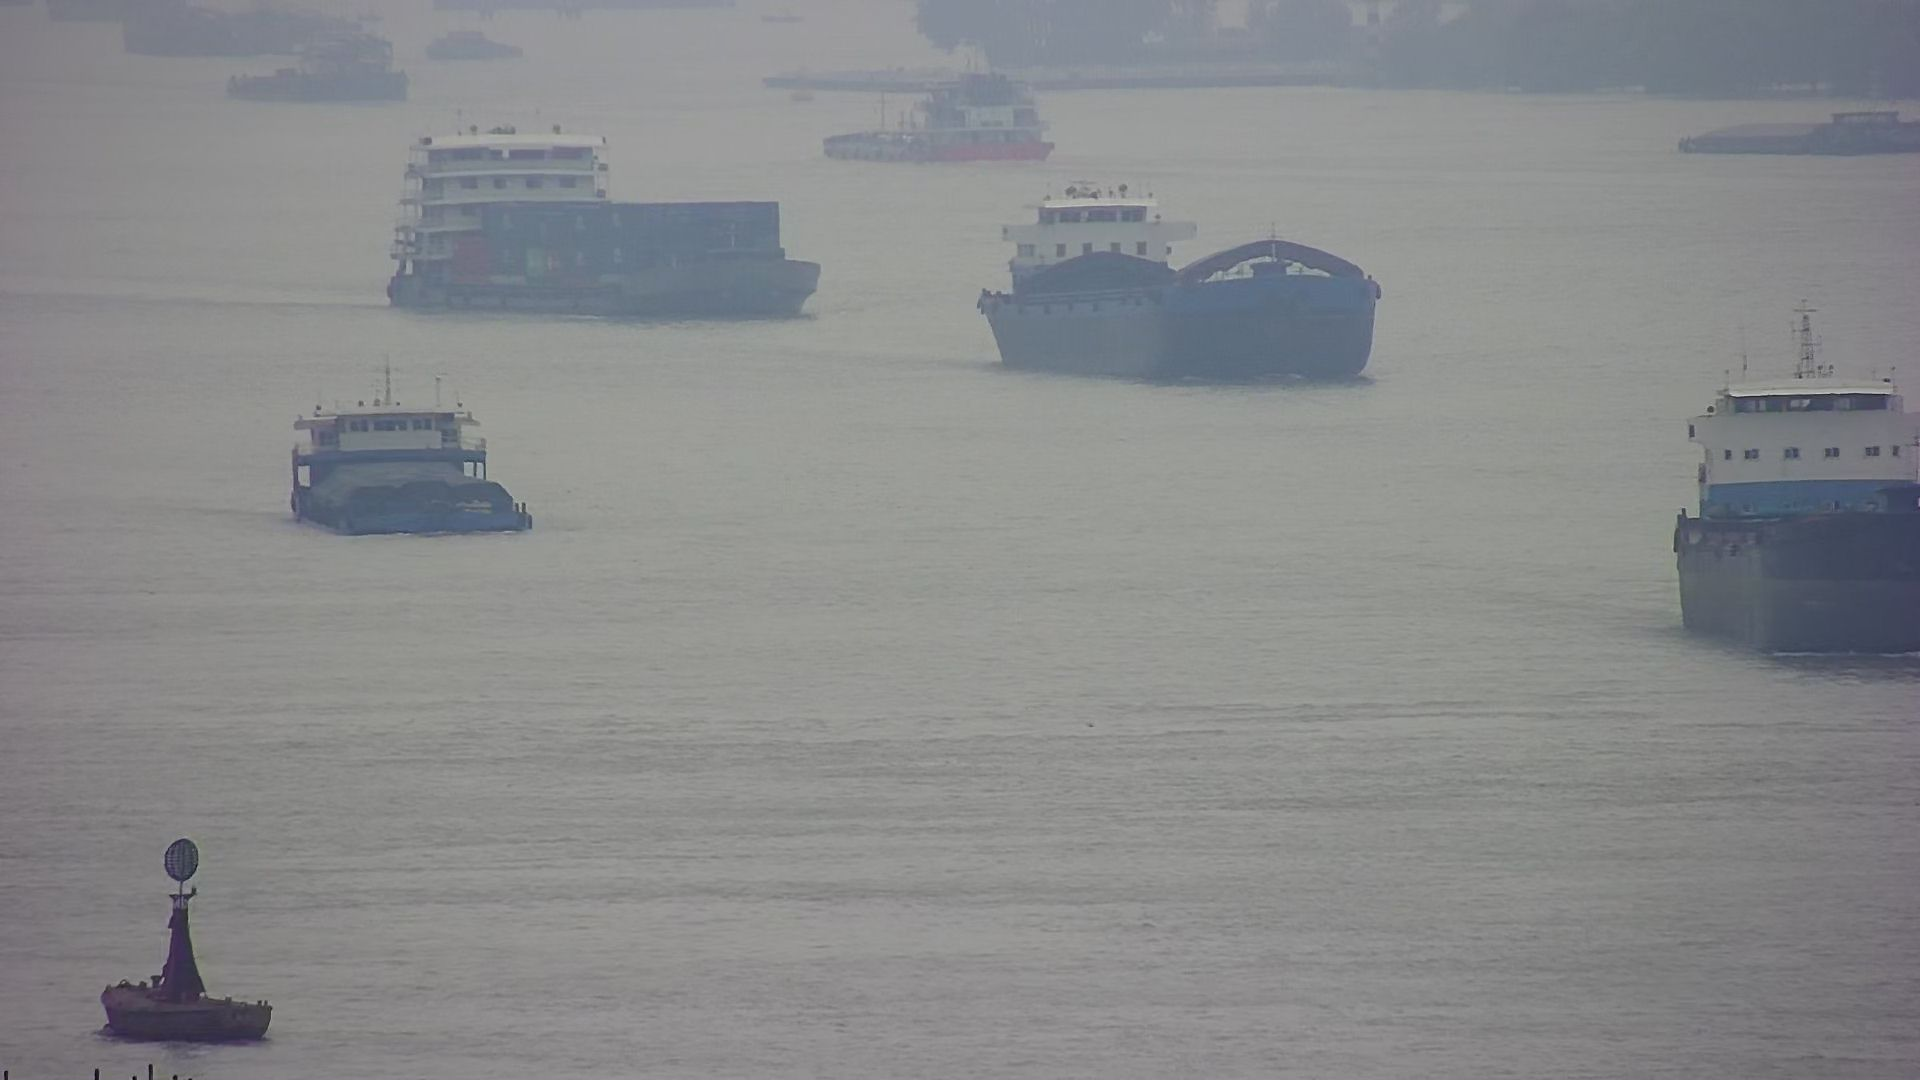boat: (105, 836, 269, 1046), (425, 32, 514, 58)
ship: (392, 131, 819, 316), (978, 194, 1381, 381), (1673, 382, 1920, 658), (294, 393, 534, 531), (814, 78, 1058, 160), (1683, 117, 1920, 157), (225, 44, 409, 94)
